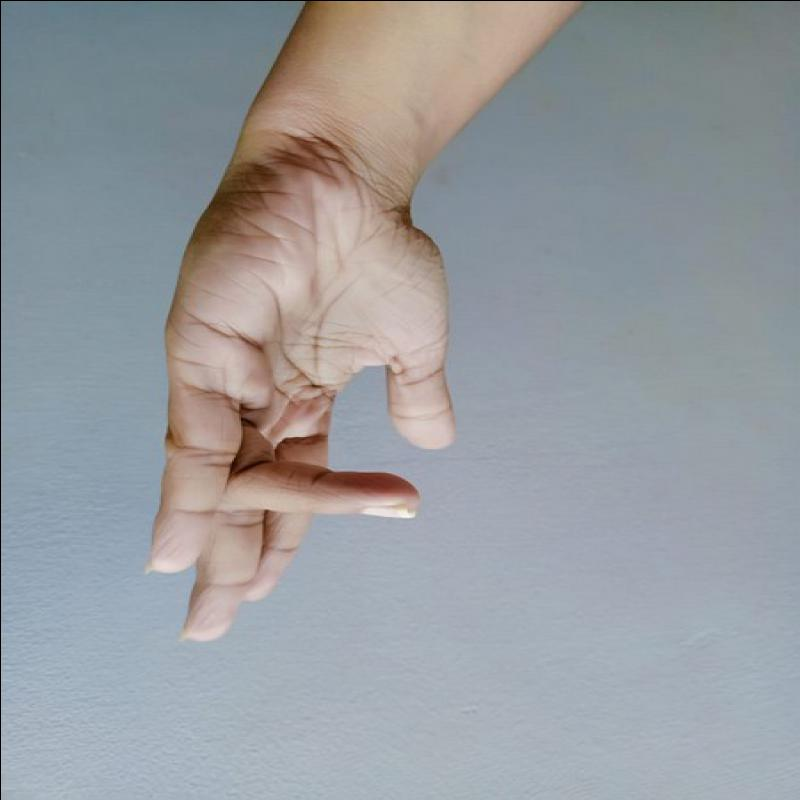Pathaaka: (106, 167, 513, 653)
